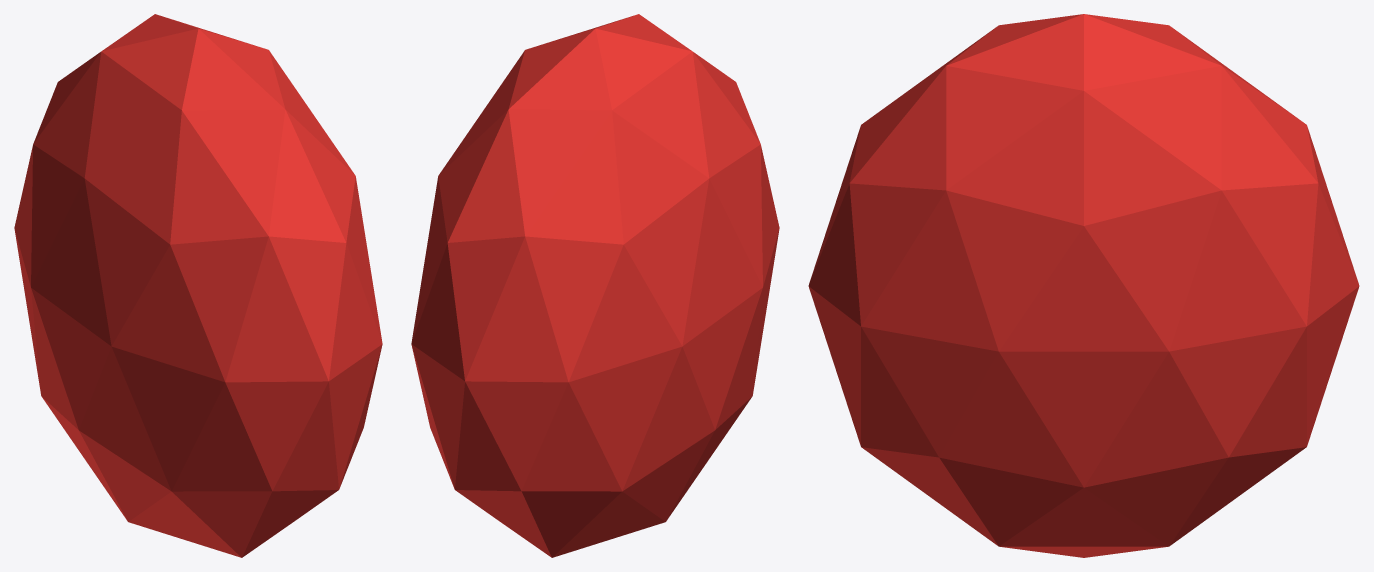
Rendered from elementred.fbx.
3 renders of one model, left to right at view 1: azimuth 30°, elevation 25°; view 2: azimuth 150°, elevation 25°; view 3: azimuth 270°, elevation 25°, orthographic. The views are drawn at different scales.
Parts seen in each view (by area): view 1: Icosphere; view 2: Icosphere; view 3: Icosphere.
Boxes of the visible parts, x1=… form: Icosphere: x1=14, y1=14, x2=382, y2=557; Icosphere: x1=411, y1=14, x2=779, y2=557; Icosphere: x1=808, y1=14, x2=1359, y2=557.
Bounding box in the file's own units: 190 × 368 × 338.
